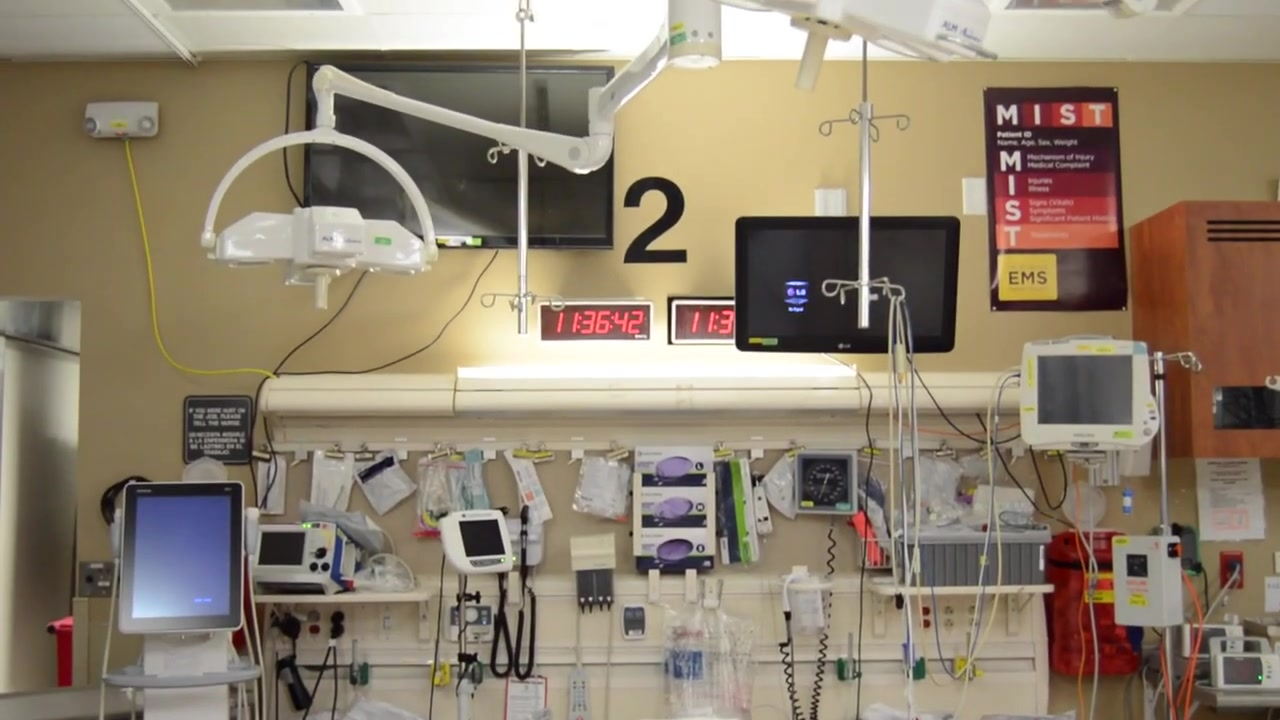bedside_monitor: (304, 64, 615, 250), (734, 214, 958, 352), (121, 485, 244, 634), (1021, 340, 1154, 450)
cabinet: (1124, 199, 1280, 463)
dispenser: (626, 439, 732, 590)
iv_pole: (1129, 340, 1202, 720), (819, 103, 911, 329), (479, 136, 567, 333)
surgical_light: (715, 1, 999, 92), (217, 206, 425, 309)
